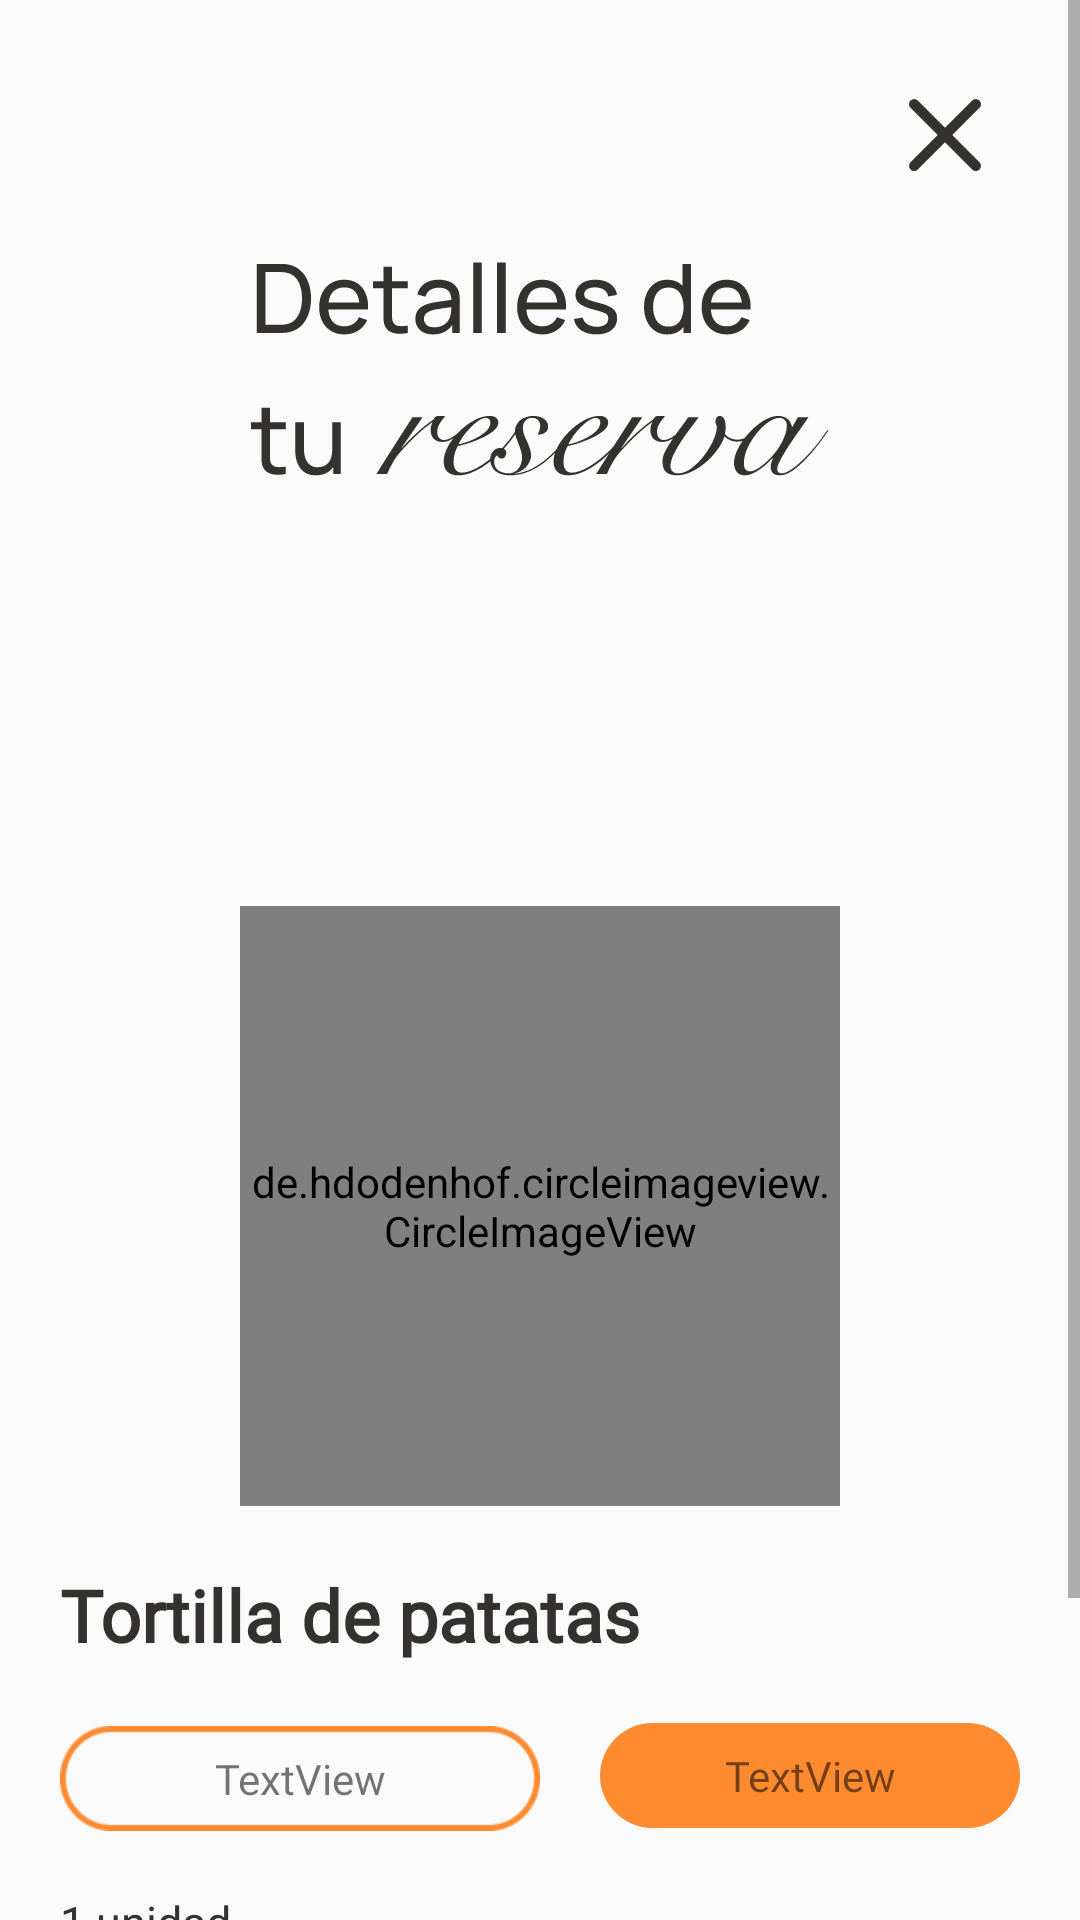

Screen size 1080w x 1920h. Icon name, then its box in pixels as (x1, y1, x2, y2):
cerrar: (909, 99, 981, 171)
